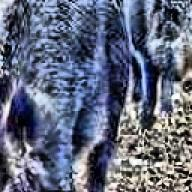boar: (0, 0, 134, 192), (112, 0, 191, 148)
